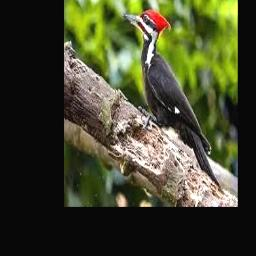Woodpecker: (122, 8, 222, 189)
